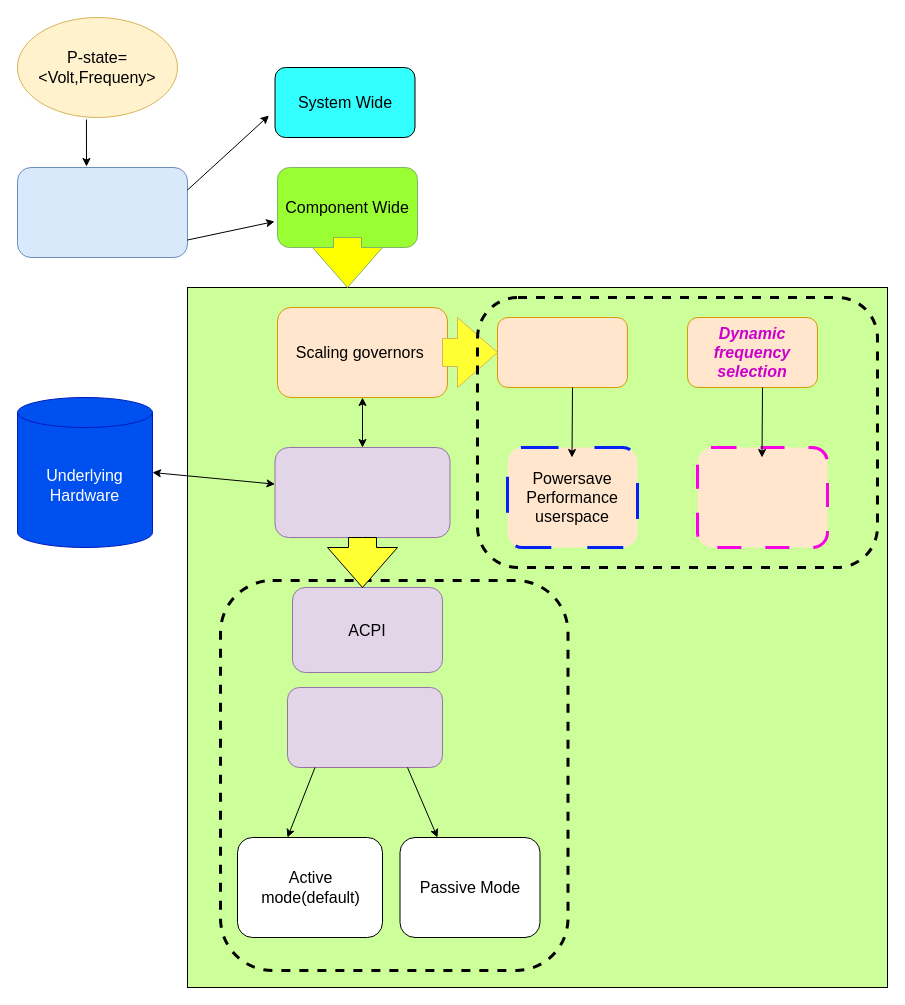
This 905x1005 diagram has some shape labels left out. Each missing label, with the box of its shape:
Intel P-state: (286, 686, 442, 768)
Ondemand Schedutil Conservative: (696, 446, 828, 548)
p-state selection: (16, 166, 188, 258)
Scaling drivers: (274, 446, 450, 538)
Static/fix frequency selection: (496, 316, 628, 388)
